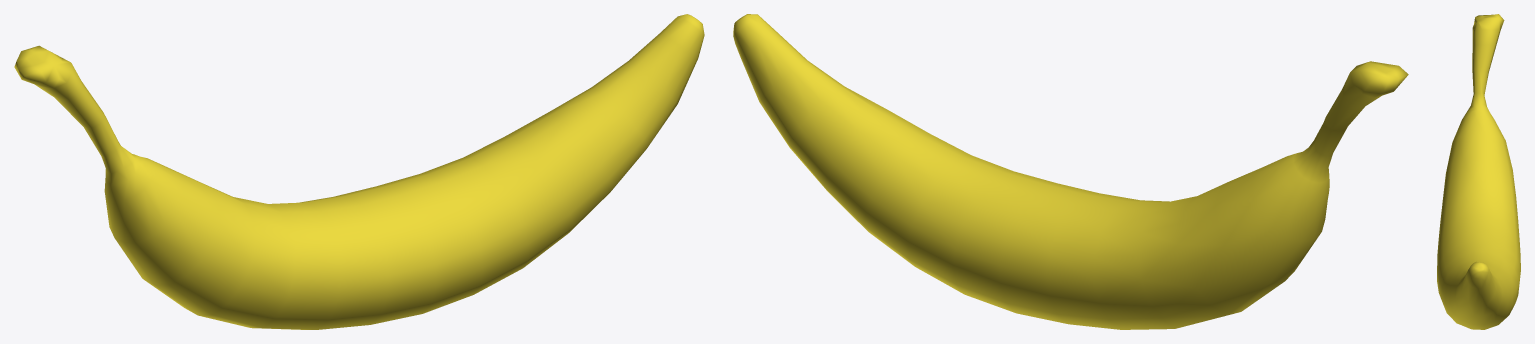
The model's file is banana.fbx.
3 views of the same model, side by side, from view 1: azimuth 30°, elevation 25°; view 2: azimuth 150°, elevation 25°; view 3: azimuth 270°, elevation 25° (orthographic). The views are drawn at different scales.
Visible parts, largest first — view 1: banana_low; view 2: banana_low; view 3: banana_low.
Boxes of the visible parts, <box> form: banana_low: <box>14,14,704,329</box>; banana_low: <box>733,14,1408,329</box>; banana_low: <box>1437,14,1520,329</box>.
Bounding box in the file's own units: 462 × 218 × 85.04.
